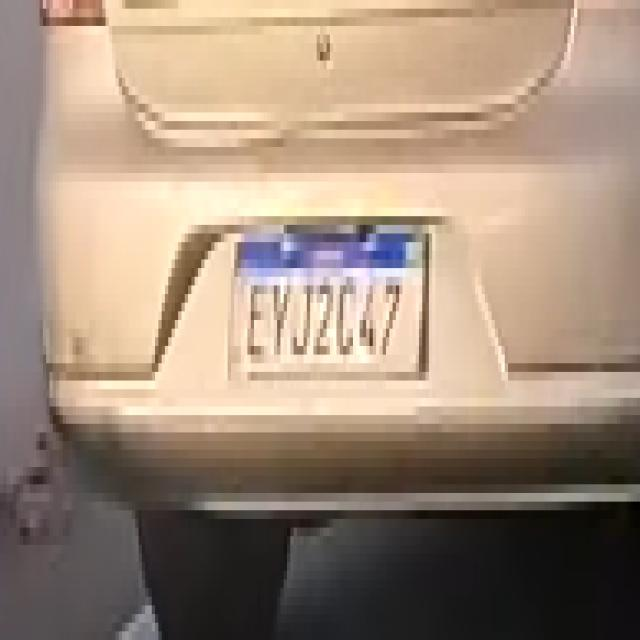Placa_mercosul_carro: (228, 223, 427, 382)
